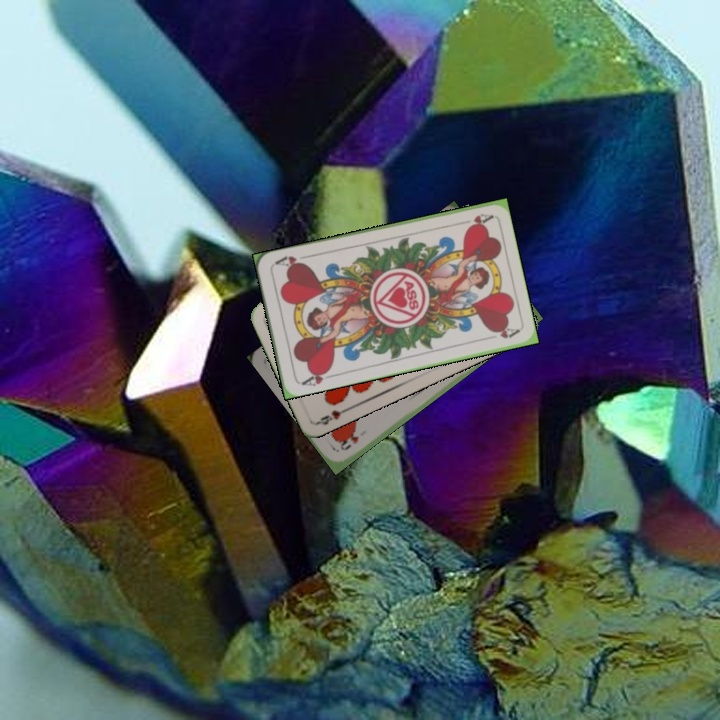H9: (314, 403, 353, 428)
HA: (297, 364, 336, 389), (464, 209, 494, 230)
HO: (336, 432, 362, 453)
